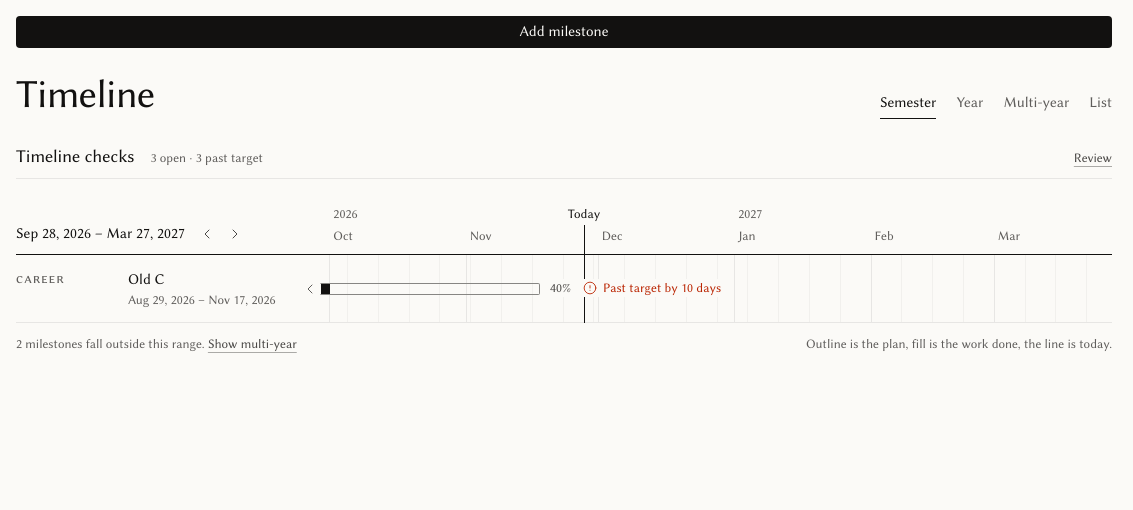
Test: TimelinePage › collapses three or more checks into one summary line that opens on Review
Expected: the text "3 open · 3 past target" is shown, [150,149,263,167]
Expected: the button "Dismiss" is not shown
Step 1. Click the button "Review" → (1093,158), box [1074,144,1112,172]
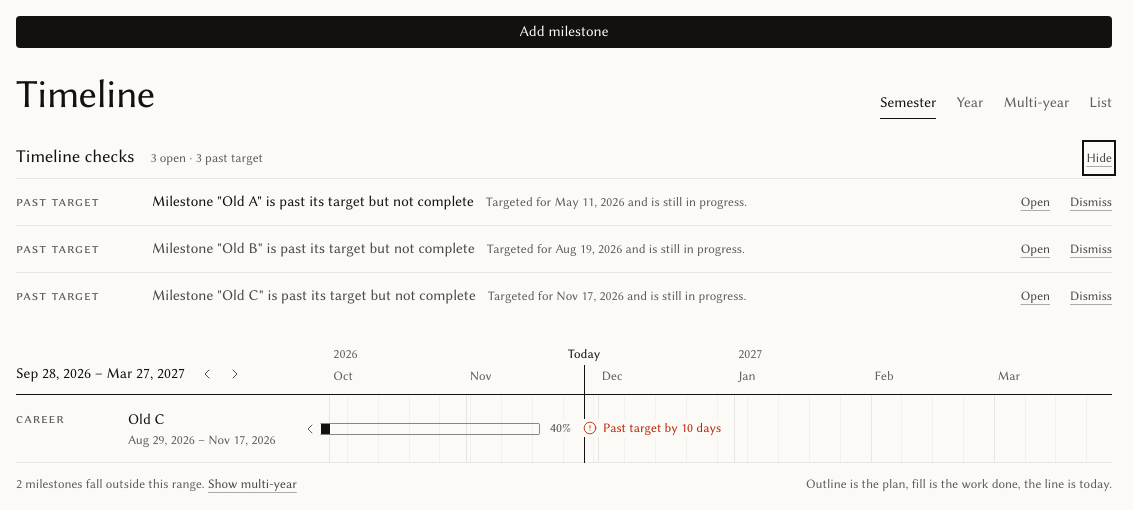
Expected: the button "Hide" is expanded, [1086,144,1112,172]
Expected: the number of buttons "Dismiss" is 3, [1070,189,1112,215]; [1070,236,1112,262]; [1070,283,1112,309]
